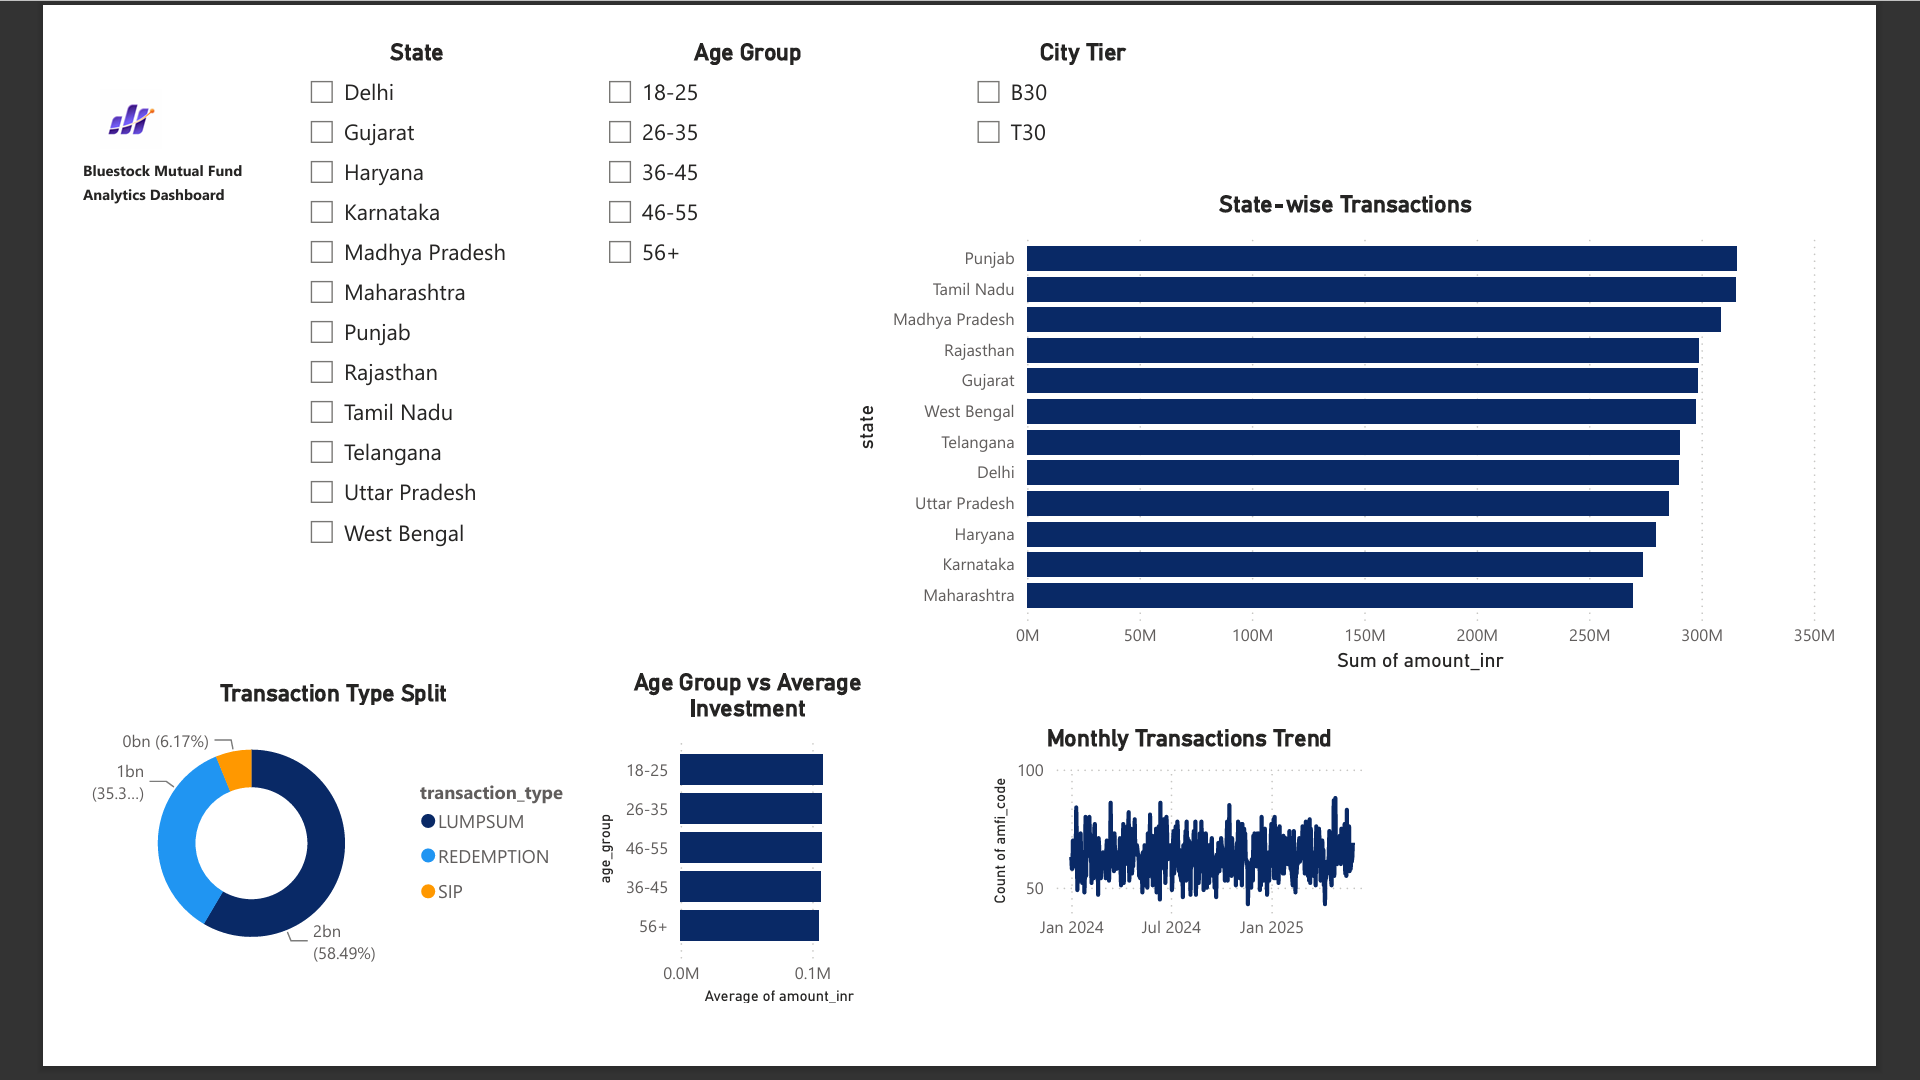

The dashboard page shown, as its layout file describes it:
{"tool":"powerbi","page":{"name":"Investor Analytics","canvas":[1280,720],"ordinal":2},"visuals":[{"type":"clusteredBarChart","title":"State-wise Transactions","fields":{"Category":["investor_transactions_clean.state"],"Y":["Sum(investor_transactions_clean.amount_inr)"]},"box":[558.6,110,721.4,354.3],"z":0},{"type":"donutChart","title":"Transaction Type Split","fields":{"Category":["investor_transactions_clean.transaction_type"],"Y":["Sum(investor_transactions_clean.amount_inr)"]},"box":[0,464.3,372.9,220],"z":1},{"type":"clusteredBarChart","title":"Age Group vs Average Investment","fields":{"Category":["investor_transactions_clean.age_group"],"Y":["Avg(investor_transactions_clean.amount_inr)"]},"box":[372.9,455.7,227.1,248.6],"z":2},{"type":"lineChart","title":"Monthly Transactions Trend","fields":{"Category":["investor_transactions_clean.transaction_date"],"Y":["CountNonNull(investor_transactions_clean.amfi_code)"]},"box":[658.6,497.1,295.7,165.7],"z":3},{"type":"slicer","title":"State","fields":{"Values":["investor_transactions_clean.state"]},"box":[157.1,0,180,387.1],"z":4},{"type":"slicer","title":"Age Group","fields":{"Values":["investor_transactions_clean.age_group"]},"box":[372.9,0,227.1,178.6],"z":5},{"type":"slicer","title":"City Tier","fields":{"Values":["investor_transactions_clean.city_tier"]},"box":[640,0,178.6,110],"z":6},{"type":"image","box":[0,37.1,78.6,44.3],"z":7},{"type":"textbox","box":[0,81.4,157.1,55.7],"z":8}]}

Visuals, with their boxes in screenshot pixels (x1, y1, x2, y2), scaled from the page's 1280x720 canvas onto the 1920x1080 screenshot:
"State-wise Transactions" clusteredBarChart: <box>838,165,1919,696</box>
"Transaction Type Split" donutChart: <box>0,696,559,1026</box>
"Age Group vs Average Investment" clusteredBarChart: <box>559,684,900,1056</box>
"Monthly Transactions Trend" lineChart: <box>988,746,1431,994</box>
"State" slicer: <box>236,0,506,581</box>
"Age Group" slicer: <box>559,0,900,268</box>
"City Tier" slicer: <box>960,0,1228,165</box>
image: <box>0,56,118,122</box>
textbox: <box>0,122,236,206</box>
